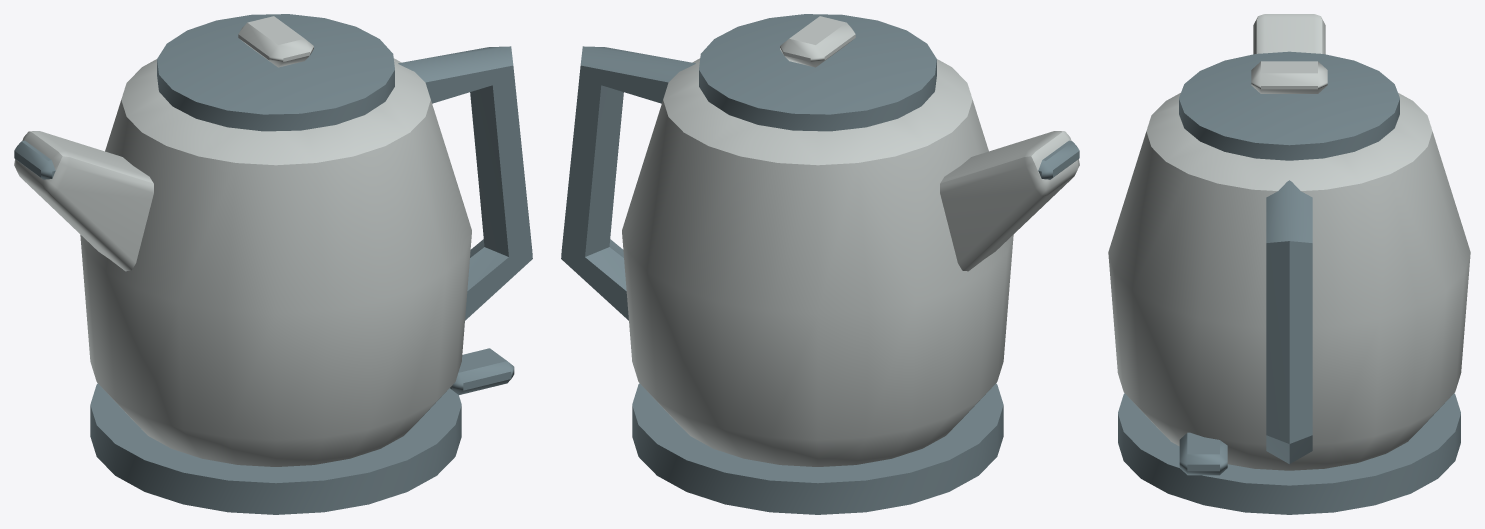
The model's file is kettle.glb.
The picture shows the model from 3 angles, left to right: view 1: azimuth 30°, elevation 25°; view 2: azimuth 150°, elevation 25°; view 3: azimuth 270°, elevation 25°; orthographic projection. The views are drawn at different scales.
Visible parts, largest first — view 1: kettle_shell, power_base, lid, handle, pour_spout, lid_grip, switch, spout_mouth; view 2: kettle_shell, power_base, lid, handle, pour_spout, lid_grip, spout_mouth; view 3: kettle_shell, lid, power_base, handle, pour_spout, lid_grip, switch.
Boxes of the visible parts, x1,y1,x2,y2 form: kettle_shell: (80, 58, 471, 466); power_base: (90, 383, 461, 514); lid: (157, 14, 394, 131); handle: (398, 46, 532, 320); pour_spout: (14, 131, 153, 271); lid_grip: (238, 16, 313, 67); switch: (450, 348, 514, 394); spout_mouth: (14, 140, 55, 179); kettle_shell: (622, 58, 1013, 466); power_base: (632, 383, 1003, 514); lid: (699, 14, 936, 131); handle: (561, 46, 695, 320); pour_spout: (940, 131, 1079, 271); lid_grip: (780, 16, 855, 67); spout_mouth: (1038, 140, 1079, 179); kettle_shell: (1108, 93, 1470, 470); lid: (1179, 51, 1399, 160); power_base: (1118, 393, 1460, 514); handle: (1266, 180, 1312, 463); pour_spout: (1253, 14, 1325, 54); lid_grip: (1251, 61, 1327, 93); switch: (1179, 432, 1227, 475).
Bounding box in the file's own units: 0.2824 × 0.217 × 0.19.
